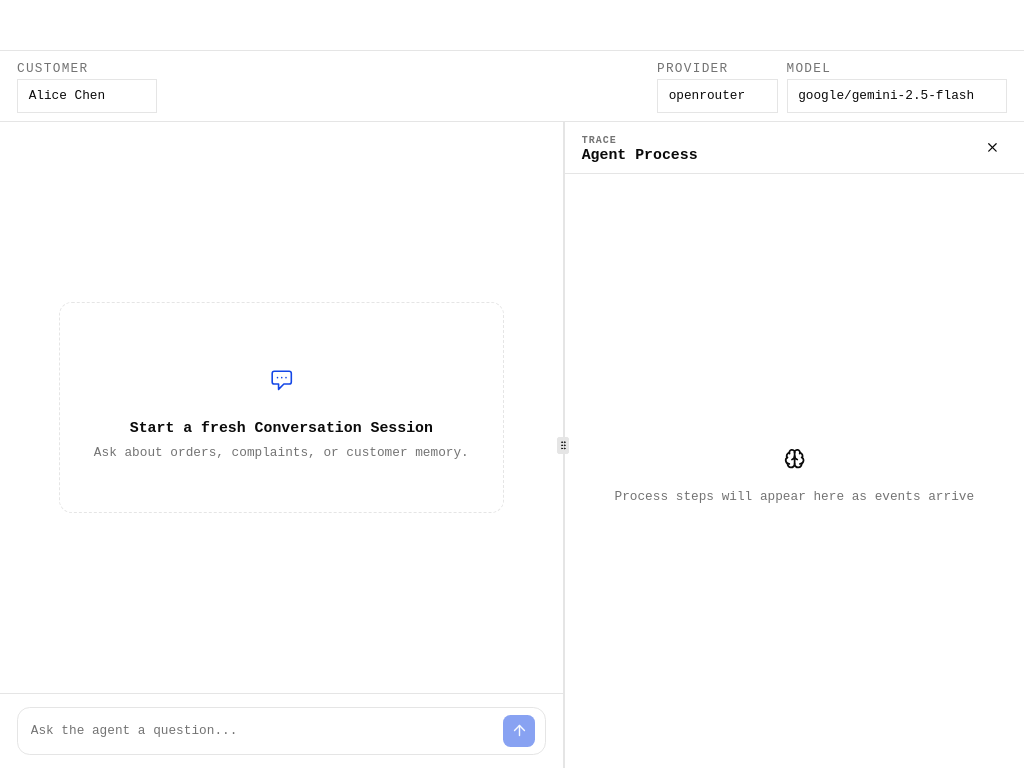
Test: ChatPage › sends a message and streams assistant tokens progressively
The image size is (1024, 768).
Type "Tell me a joke" into the field named "message". click: [260, 731]
box: [26,712,494,750]
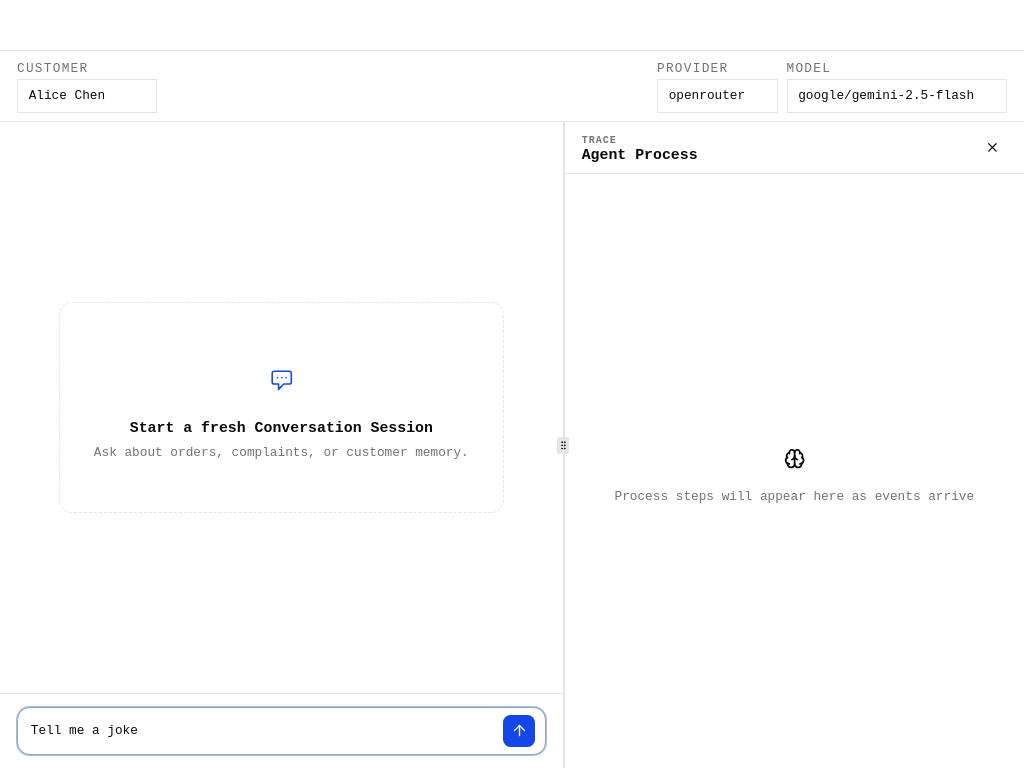
Click the button named "send". click: [519, 731]
box: [502,714,536,748]
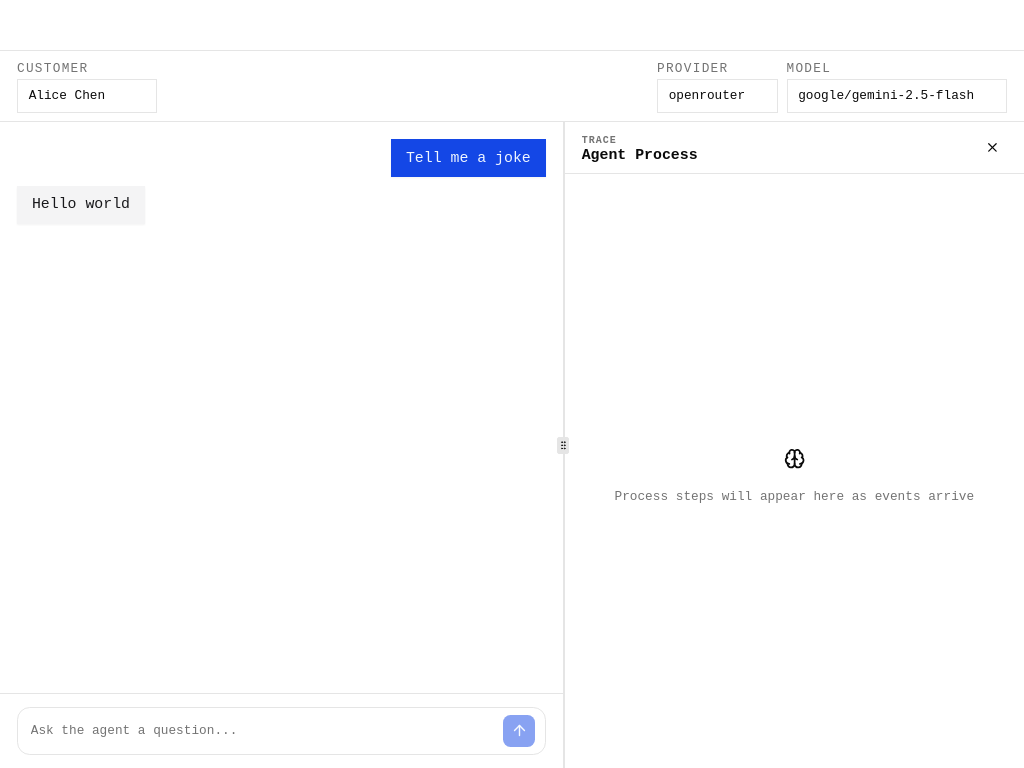
Result: the text "Tell me a joke" is shown at [391,139,546,177]
Result: the text "Hello world" is shown at [32,194,130,216]
